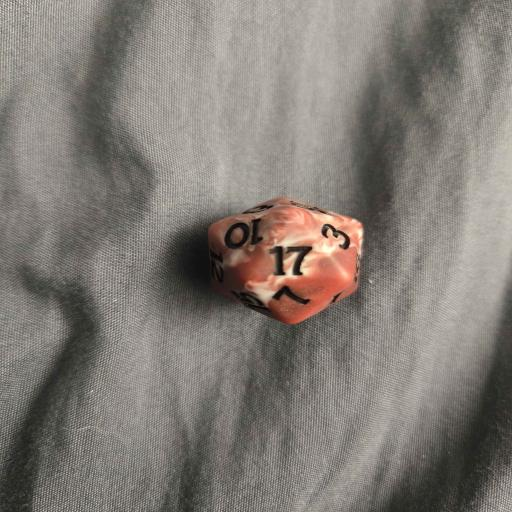twenty sided dice: (205, 195, 363, 325)
